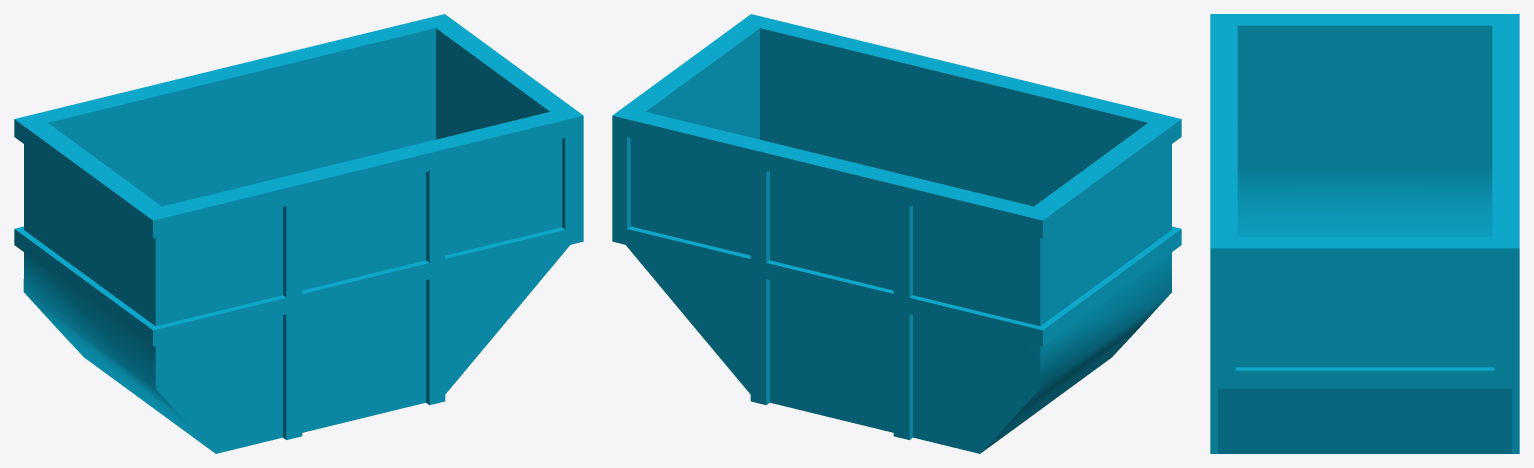
3 views of the same model, side by side, from view 1: azimuth 30°, elevation 25°; view 2: azimuth 150°, elevation 25°; view 3: azimuth 270°, elevation 25° (orthographic). The views are drawn at different scales.
Visible parts, largest first — view 1: Cube; view 2: Cube; view 3: Cube.
Part boxes in pixels (bbox=[...]): Cube: bbox=[14, 14, 583, 453]; Cube: bbox=[612, 14, 1181, 453]; Cube: bbox=[1210, 14, 1519, 453].
Size of the model in its own units: 340 by 190 by 190.
